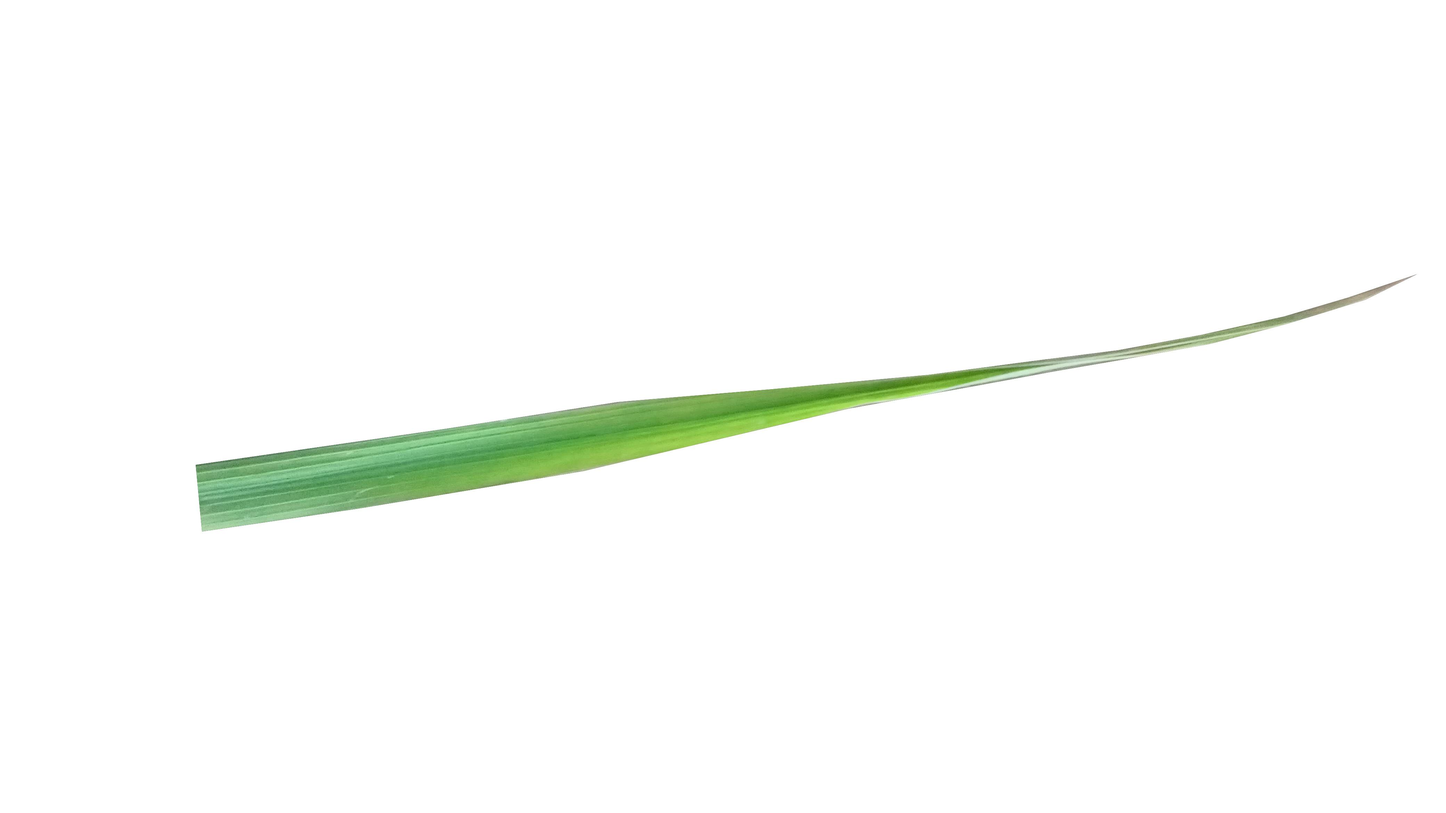Tungro: (443, 394, 909, 495)
